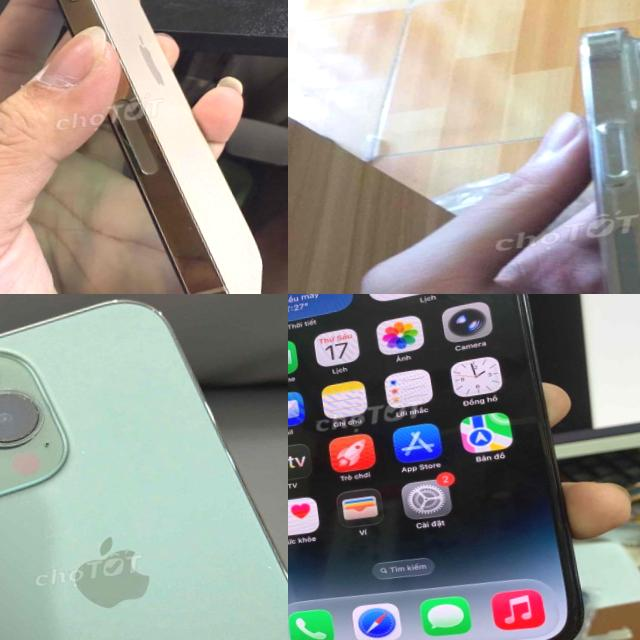gen_12_13: (0, 294, 288, 640), (0, 0, 288, 294)
gen_14: (288, 294, 596, 640), (546, 14, 640, 294)
